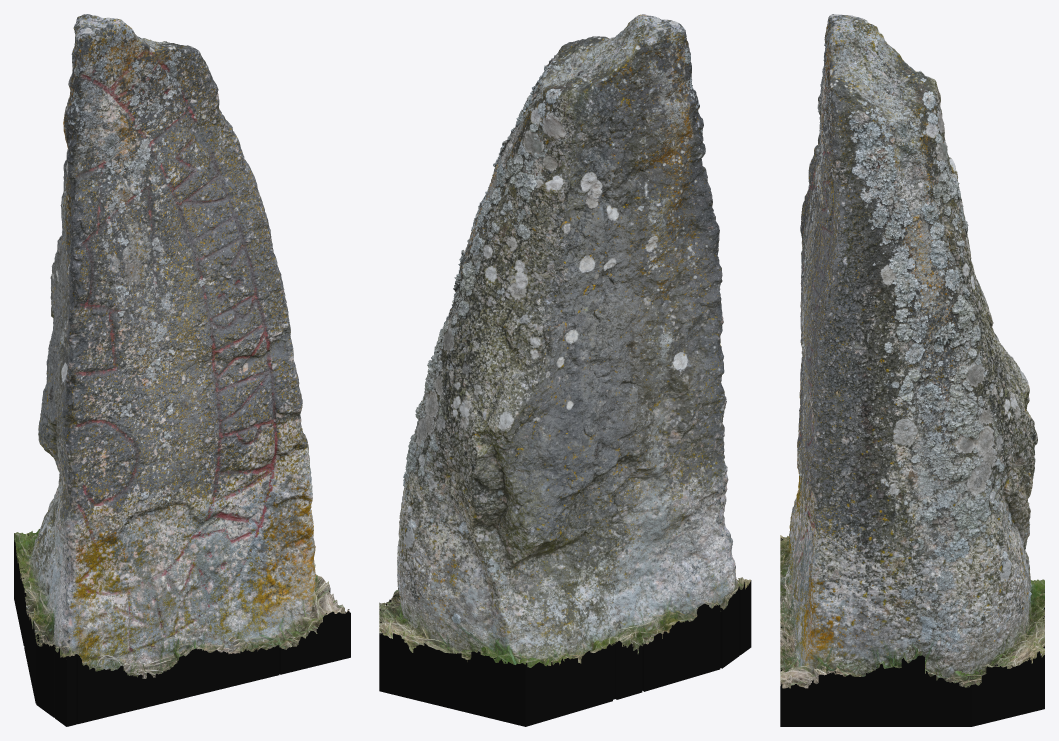
The model's file is runestone_og_62_skanninge_sweden.glb.
The picture shows the model from 3 angles, left to right: view 1: azimuth 30°, elevation 25°; view 2: azimuth 150°, elevation 25°; view 3: azimuth 270°, elevation 25°; orthographic projection. The views are drawn at different scales.
Parts seen in each view (by area): view 1: ToMax_ToMax2_0, ToMax_ToMax_0, ToMax_ToMax3_0, ToMax_ToMax1_0, ToMax_Base_0; view 2: ToMax_ToMax_0, ToMax_ToMax1_0, ToMax_ToMax2_0, ToMax_ToMax3_0, ToMax_Base_0; view 3: ToMax_ToMax1_0, ToMax_ToMax3_0, ToMax_ToMax_0, ToMax_ToMax2_0, ToMax_Base_0.
Boxes of the visible parts, bbox=[...] form: ToMax_ToMax2_0: bbox=[16, 14, 330, 678]; ToMax_ToMax_0: bbox=[21, 14, 343, 671]; ToMax_ToMax3_0: bbox=[16, 38, 349, 675]; ToMax_ToMax1_0: bbox=[14, 80, 323, 677]; ToMax_Base_0: bbox=[14, 533, 350, 726]; ToMax_ToMax_0: bbox=[379, 14, 750, 661]; ToMax_ToMax1_0: bbox=[379, 81, 724, 667]; ToMax_ToMax2_0: bbox=[379, 19, 744, 666]; ToMax_ToMax3_0: bbox=[379, 34, 745, 665]; ToMax_Base_0: bbox=[379, 580, 751, 726]; ToMax_ToMax1_0: bbox=[780, 44, 1044, 685]; ToMax_ToMax3_0: bbox=[780, 28, 1044, 688]; ToMax_ToMax_0: bbox=[780, 17, 1044, 688]; ToMax_ToMax2_0: bbox=[780, 14, 1044, 683]; ToMax_Base_0: bbox=[780, 538, 1044, 726].
Bounding box in the file's own units: 0.1223 × 0.2731 × 0.1073.
5 materials, 4 textured.
